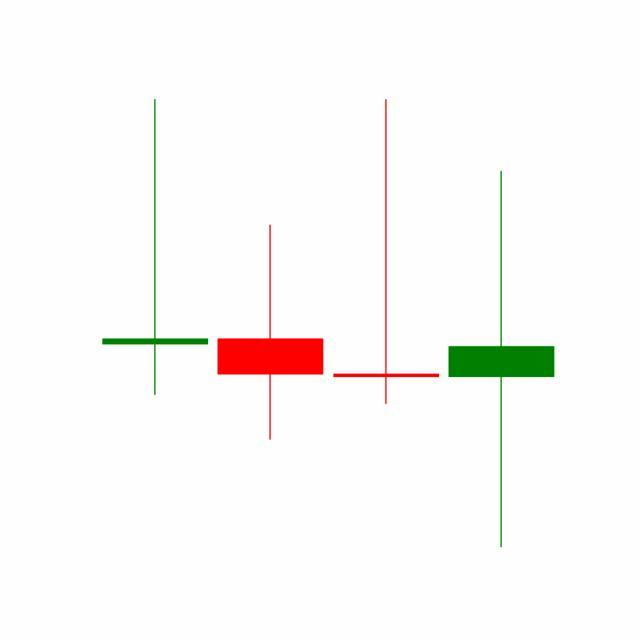Spinning Top: (329, 96, 445, 409)
